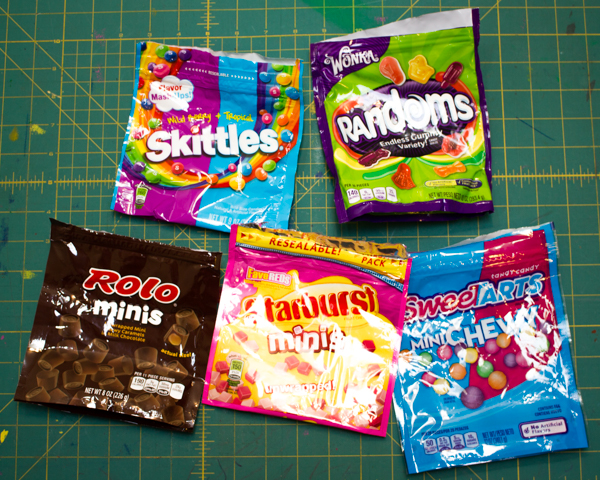Nonrec_Plastic: (377, 214, 593, 464), (21, 210, 223, 443), (312, 7, 523, 225), (209, 216, 402, 440), (101, 22, 298, 238)
